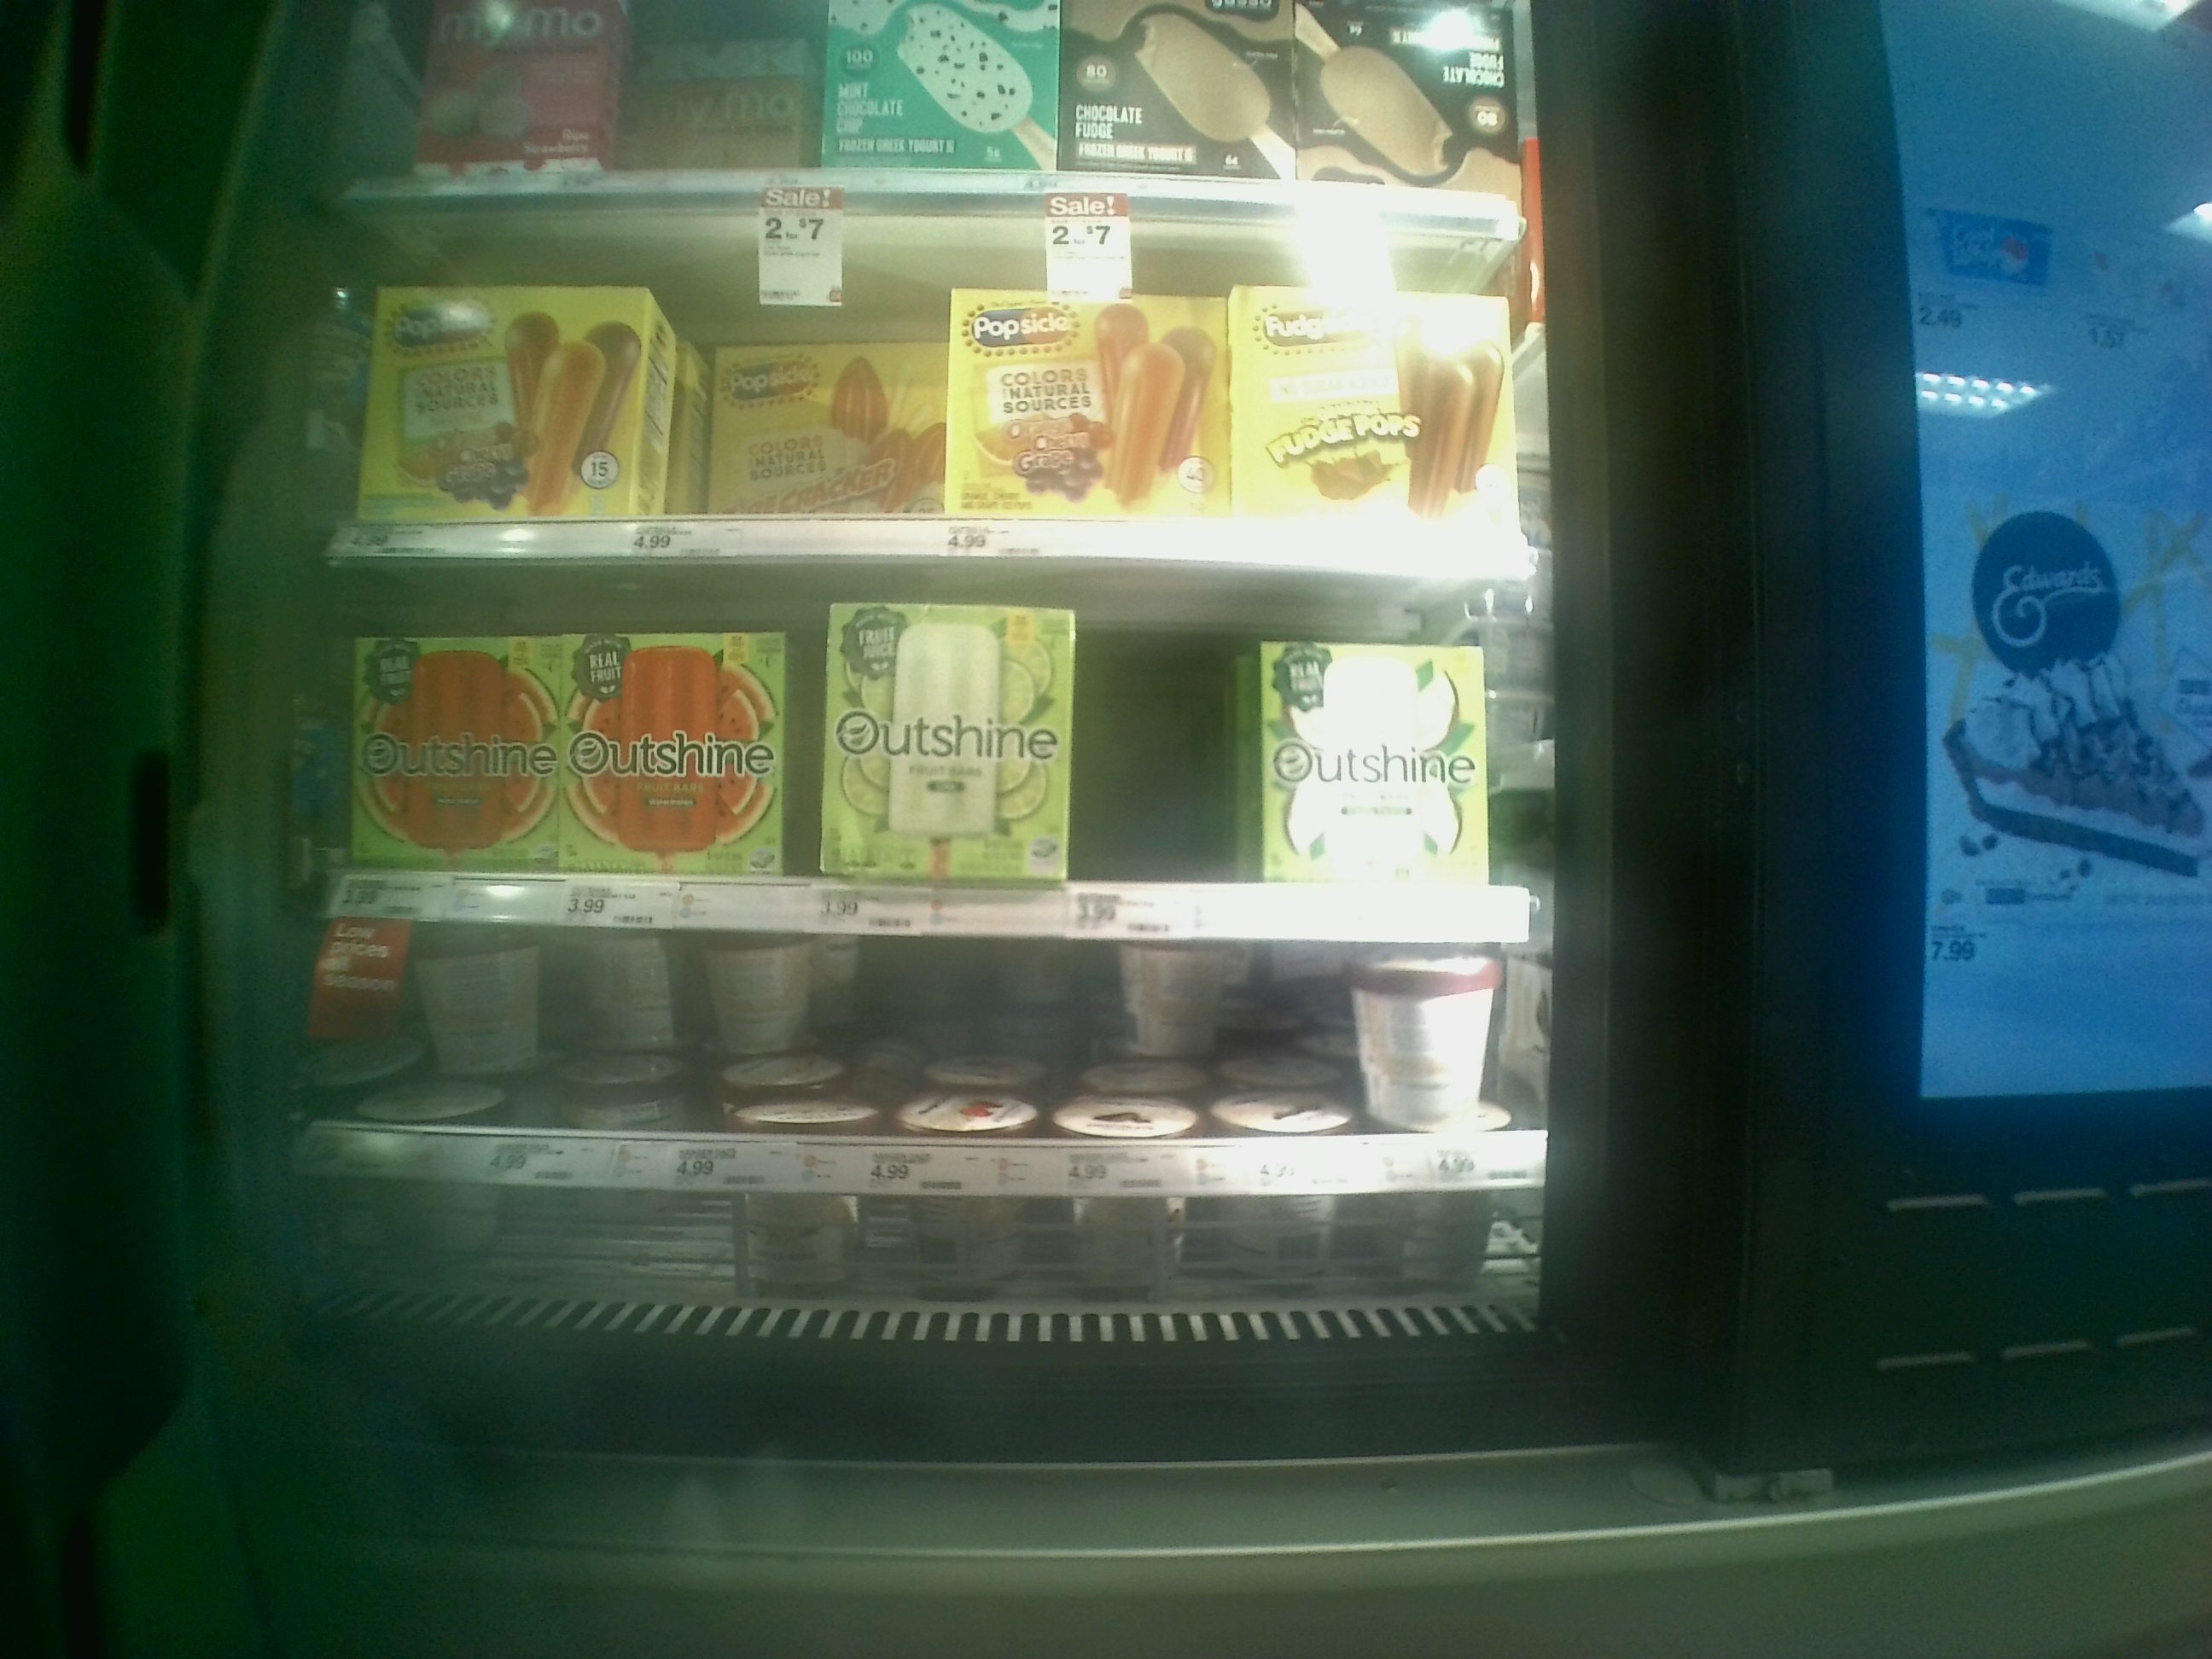shelf: (319, 558, 1555, 932), (343, 207, 1510, 558), (314, 934, 1543, 1253)
